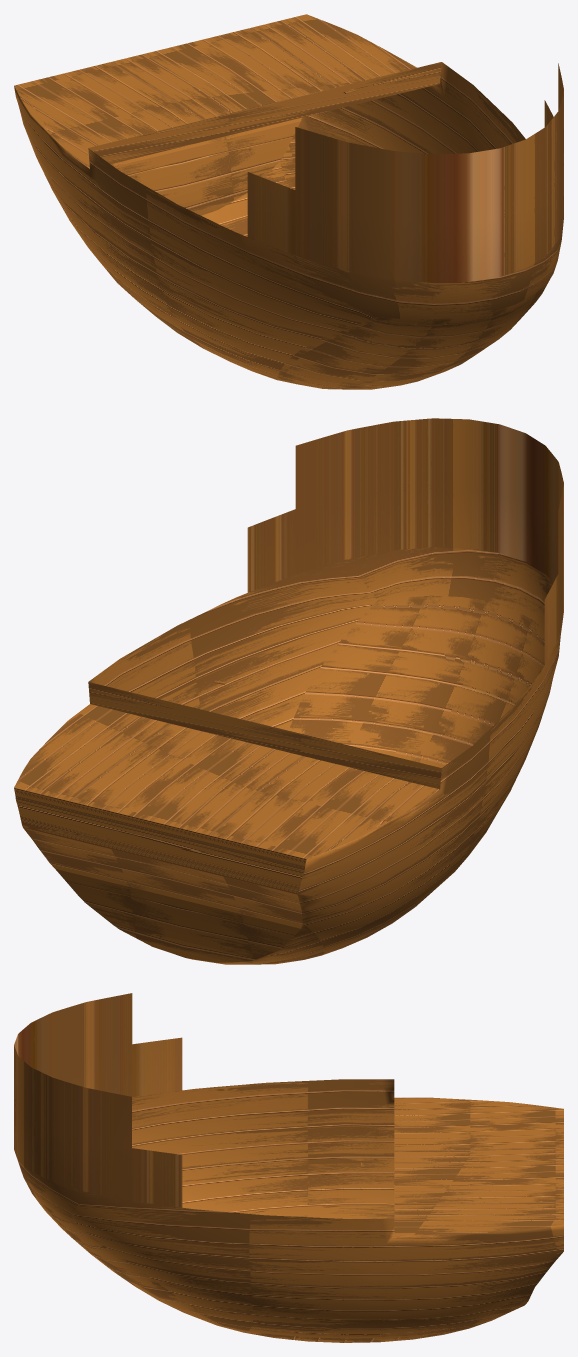
The model's file is BarcoBaseTextura.fbx.
3 views of the same model, one above another, from view 1: azimuth 30°, elevation 25°; view 2: azimuth 150°, elevation 25°; view 3: azimuth 270°, elevation 25° (orthographic). The views are drawn at different scales.
Visible parts, largest first — view 1: BarcoBaseTextura; view 2: BarcoBaseTextura; view 3: BarcoBaseTextura.
Boxes of the visible parts, <box> form: BarcoBaseTextura: <box>14,14,563,389</box>; BarcoBaseTextura: <box>14,418,563,964</box>; BarcoBaseTextura: <box>14,993,563,1342</box>.
Bounding box in the file's own units: 4203 × 3923 × 6997.
1 material, 1 textured.
